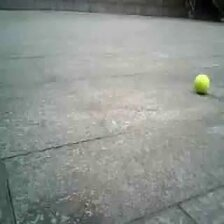tennis: (195, 75, 210, 92)
